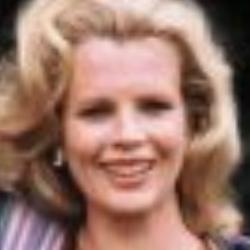face: (9, 1, 235, 229)
